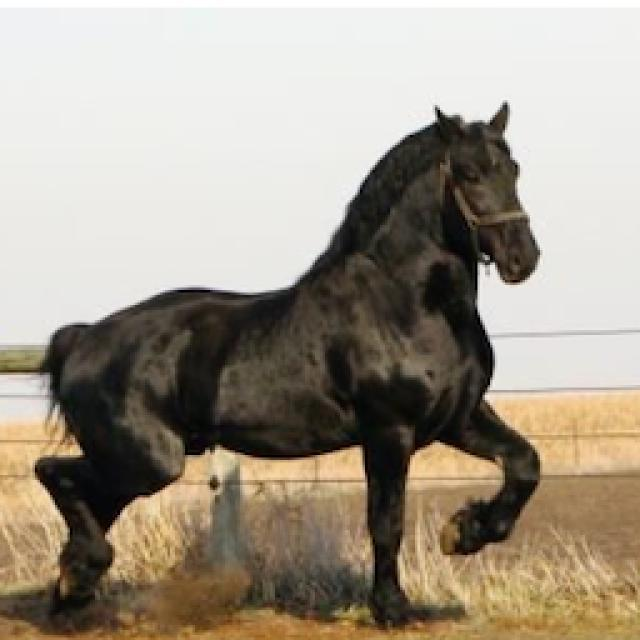Horse: (25, 95, 550, 635)
